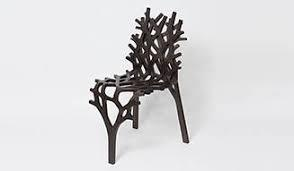chair: (75, 5, 207, 160)
